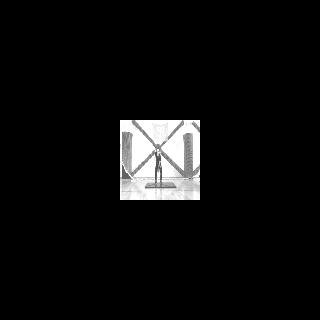kettlebell: (157, 167, 160, 173)
